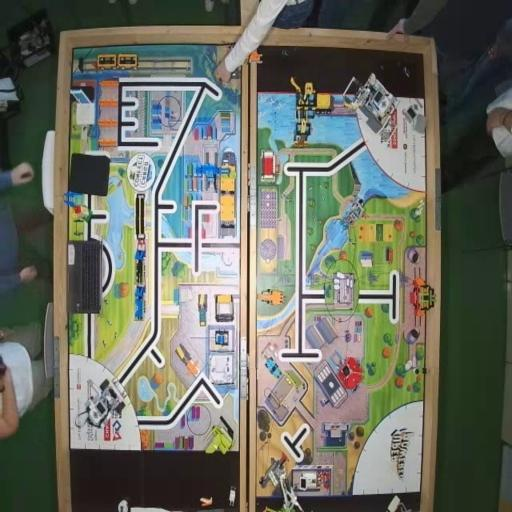lego_robot: (342, 72, 400, 134), (75, 376, 127, 430)
